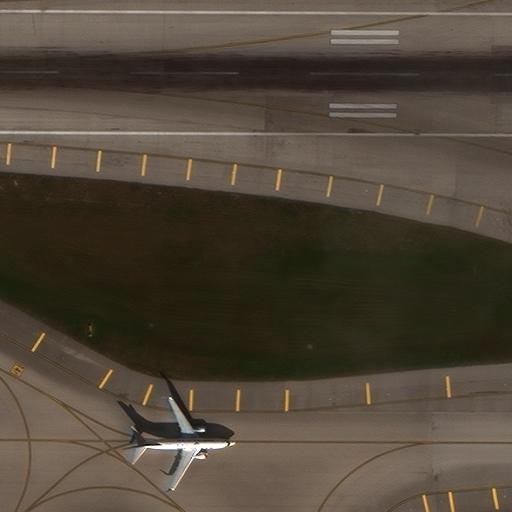Large Civil Transport: (129, 395, 237, 494)
